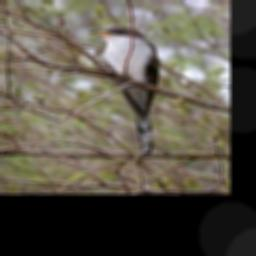Cuckoo: (88, 24, 162, 152)
